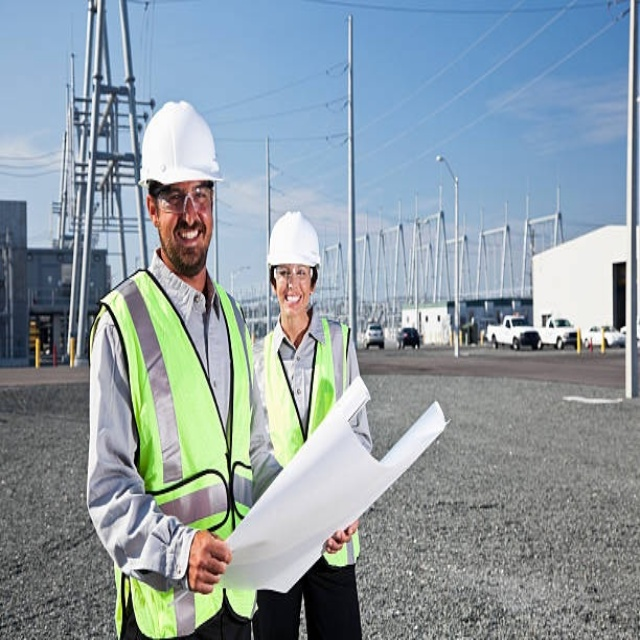Gafas: (151, 184, 214, 215), (273, 266, 314, 282)
Sin_guantes: (187, 528, 234, 593), (325, 519, 359, 553)
Sin_mascara: (170, 226, 204, 262), (281, 289, 302, 318)
